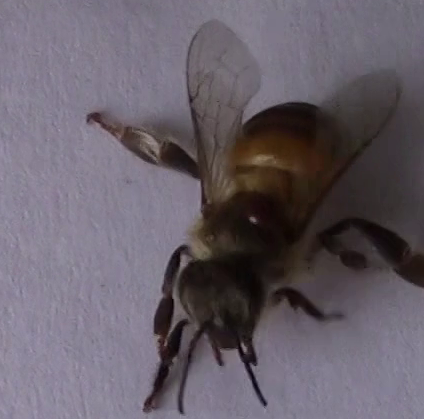Varroa destructor: (243, 199, 282, 229)
